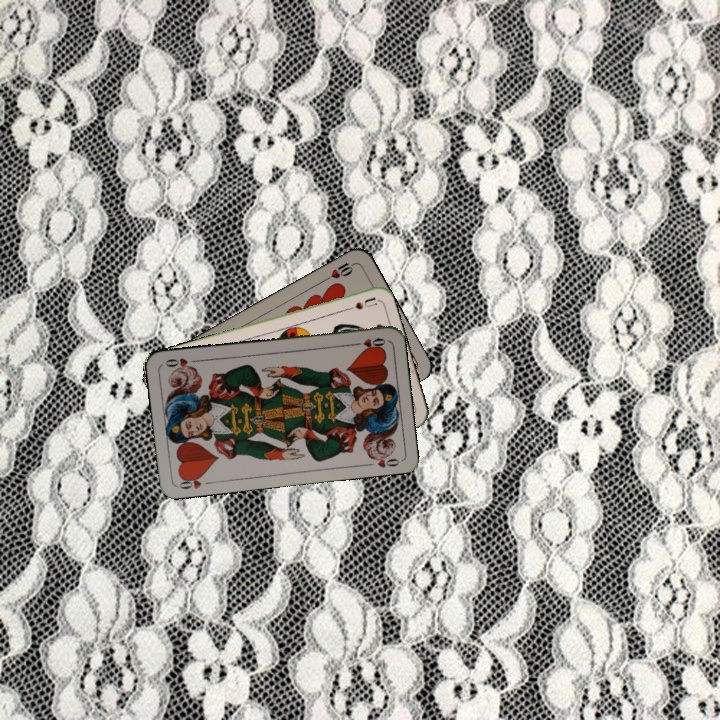H10: (320, 258, 357, 284)
HO: (348, 334, 388, 351), (175, 471, 206, 492)
SU: (338, 293, 379, 314)
